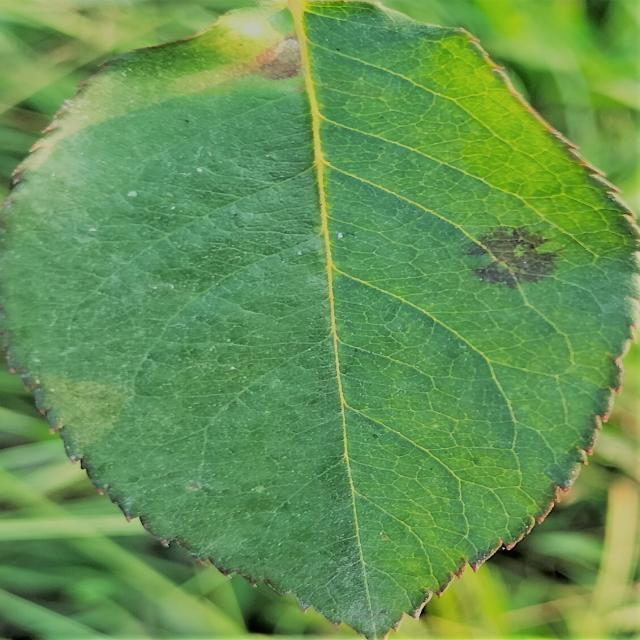Black_spot: (463, 221, 563, 291)
Rose: (1, 0, 638, 637)
